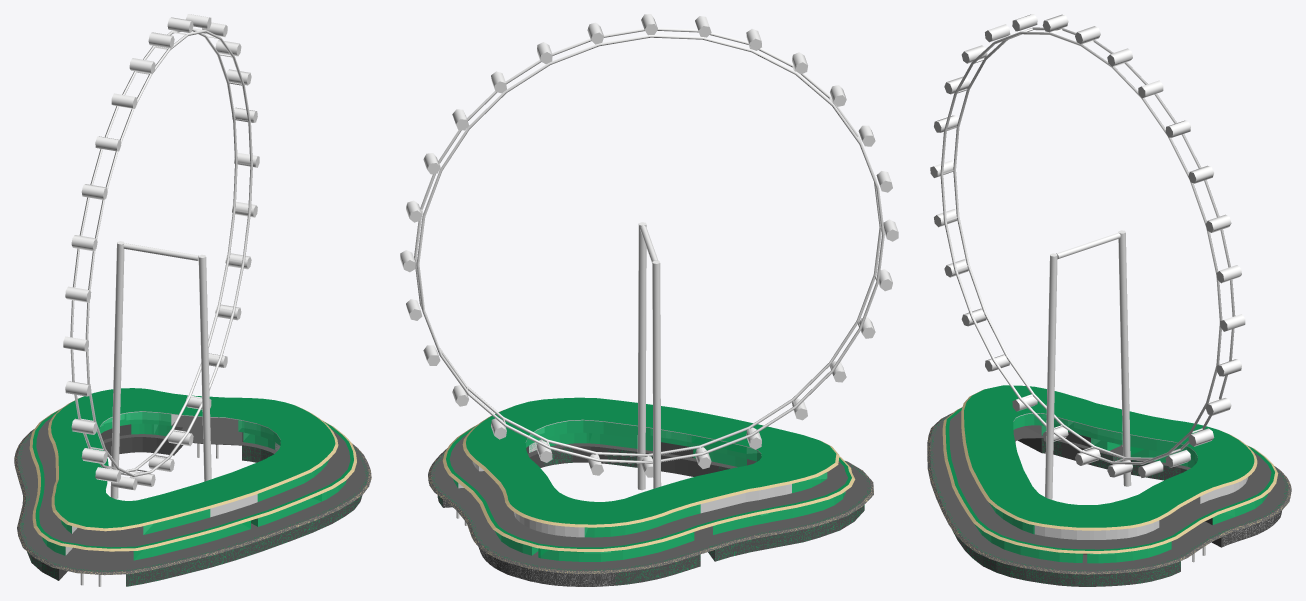
The model's file is flyer.dae.
The picture shows the model from 3 angles, left to right: view 1: azimuth 30°, elevation 25°; view 2: azimuth 150°, elevation 25°; view 3: azimuth 270°, elevation 25°; orthographic projection. The views are drawn at different scales.
Visible parts, largest first — view 1: Group3, Group2, Group1, gow, Group7, Group32; view 2: Group3, Group2, Group1, Group32, gow, Group7; view 3: Group3, Group2, Group1, gow, Group7, Group32.
Part boxes in pixels (x1=…): Group3: x1=48, y1=388, x2=338, y2=534; Group2: x1=14, y1=424, x2=371, y2=586; Group1: x1=29, y1=409, x2=356, y2=560; gow: x1=110, y1=241, x2=211, y2=499; Group7: x1=85, y1=30, x2=252, y2=476; Group32: x1=70, y1=29, x2=237, y2=473; Group3: x1=462, y1=397, x2=839, y2=537; Group2: x1=428, y1=433, x2=873, y2=586; Group1: x1=442, y1=421, x2=855, y2=561; Group32: x1=416, y1=35, x2=884, y2=463; gow: x1=637, y1=222, x2=661, y2=490; Group7: x1=414, y1=28, x2=881, y2=456; Group3: x1=961, y1=385, x2=1257, y2=539; Group2: x1=927, y1=413, x2=1291, y2=586; Group1: x1=942, y1=407, x2=1278, y2=563; gow: x1=1045, y1=230, x2=1131, y2=499; Group7: x1=940, y1=31, x2=1222, y2=464; Group32: x1=953, y1=27, x2=1235, y2=460.
Size of the model in its own units: 125975 by 111497 by 158020.
